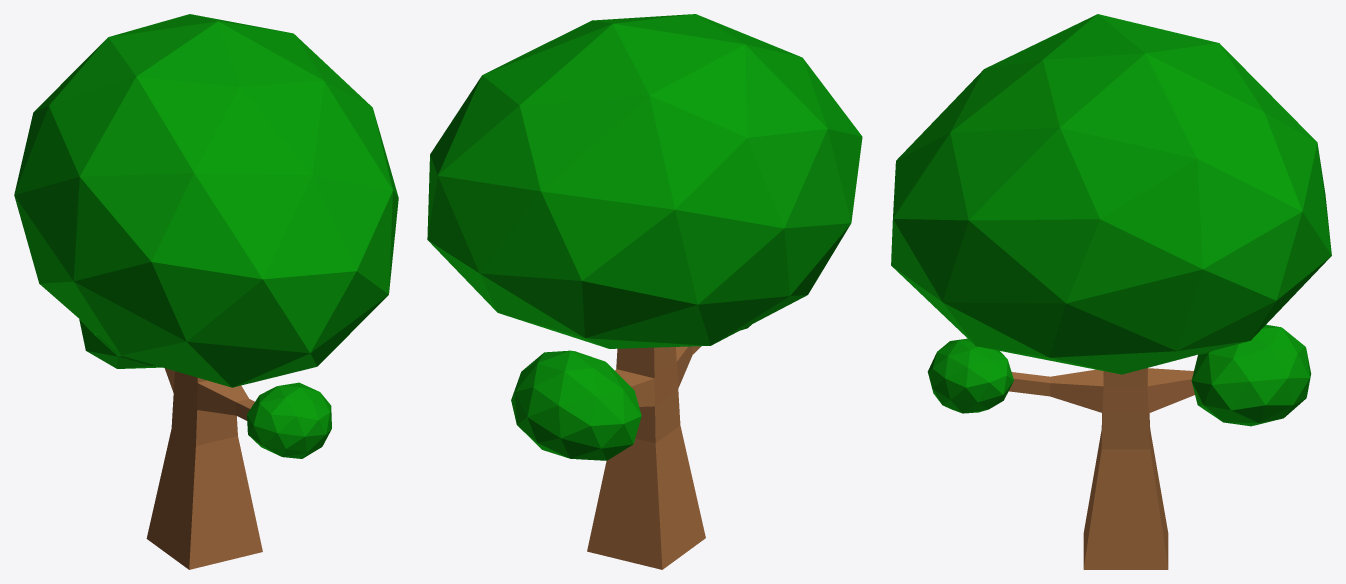
The model's file is variant_3.glb.
3 views of the same model, side by side, from view 1: azimuth 30°, elevation 25°; view 2: azimuth 150°, elevation 25°; view 3: azimuth 270°, elevation 25° (orthographic). The views are drawn at different scales.
Parts seen in each view (by area): view 1: Icosphere; view 2: Icosphere; view 3: Icosphere.
Boxes of the visible parts, <box> form: Icosphere: <box>14,14,398,569</box>; Icosphere: <box>427,14,862,569</box>; Icosphere: <box>891,14,1331,569</box>.
Size of the model in its own units: 0.6044 by 0.8712 by 0.6829.
